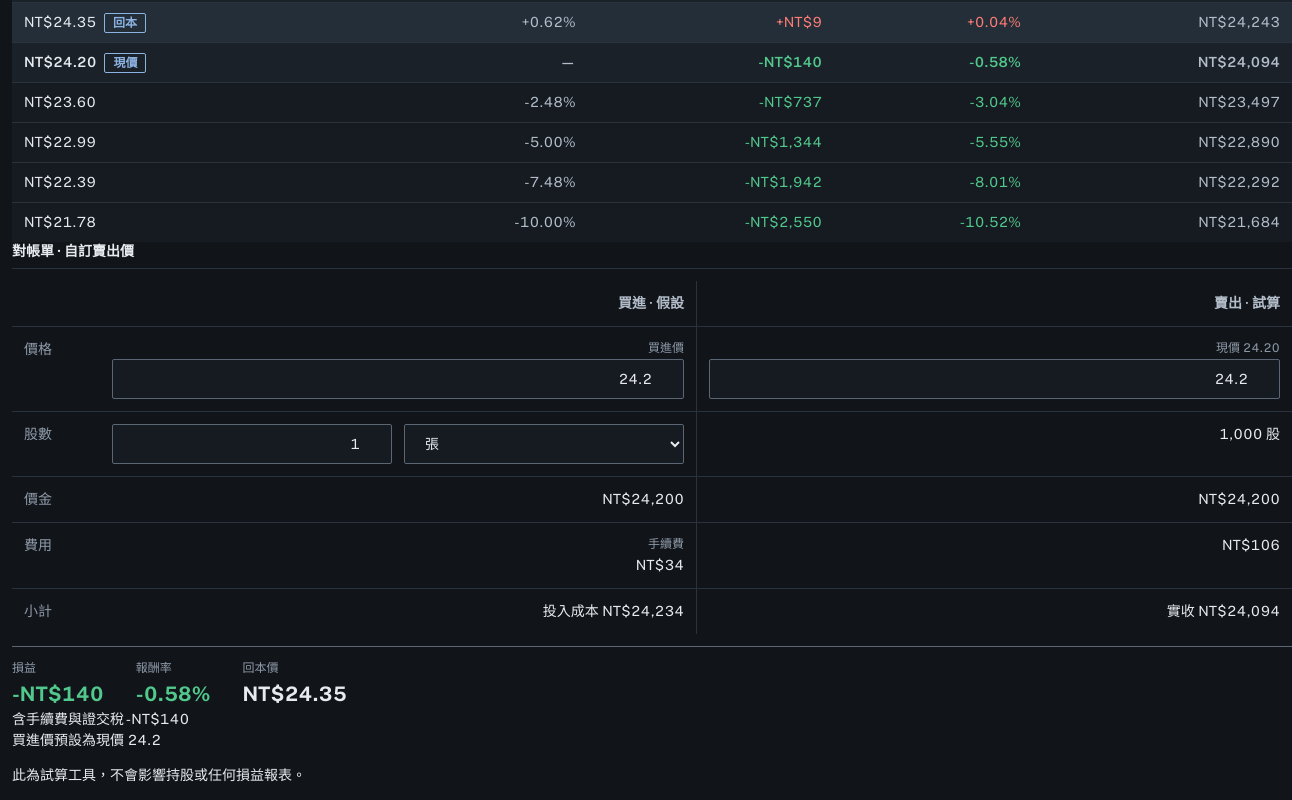
Test: WhatIfTab 畫面結構：階梯在上、對帳單在下 › 輸入不合法時給提示而不是 NaN，階梯與對帳單一起收起來
(page scrolled)
Replace the text in the number field named "股數" with "0" at (252, 444), box x1=112 y1=424 x2=392 y2=464
(page scrolled)
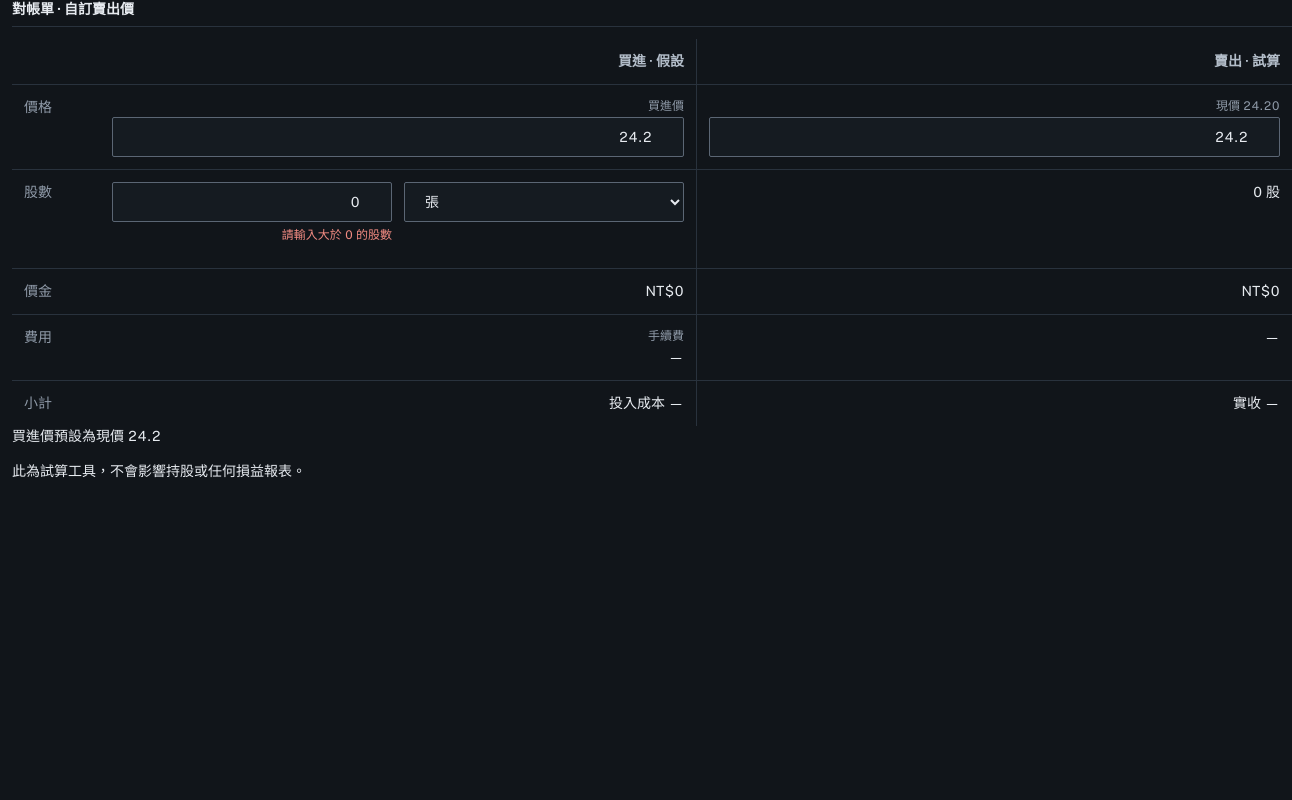
Check: the text with test id "whatif-pnl" is gone
